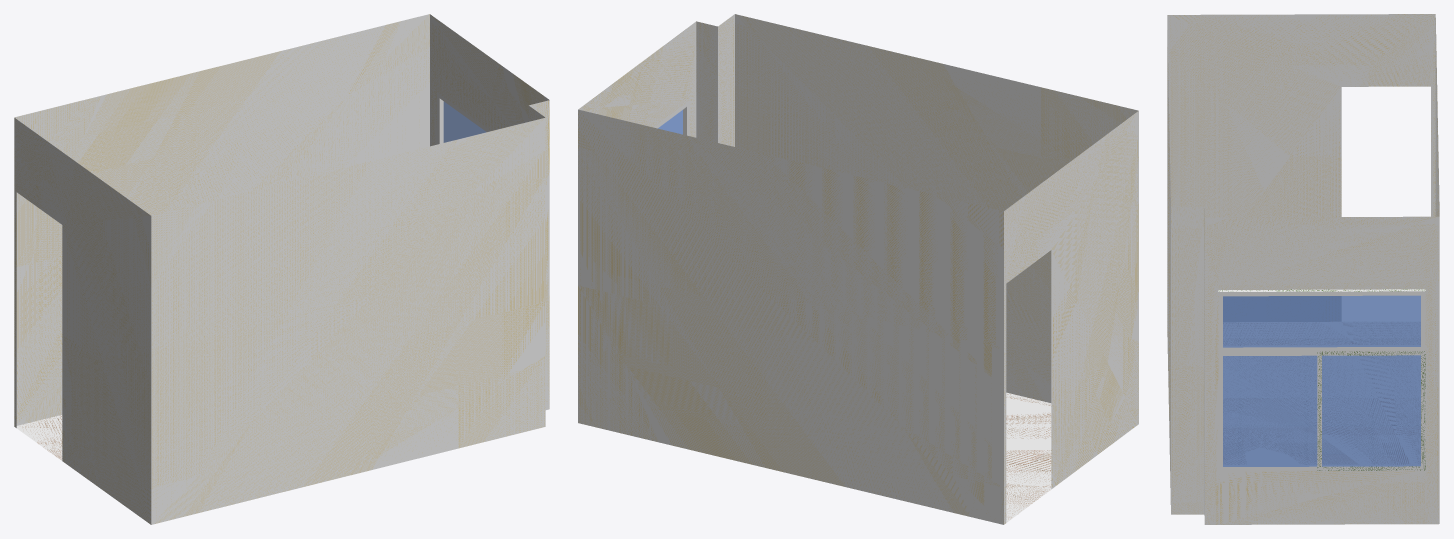
File: DES012.obj
The picture shows the model from 3 angles, left to right: view 1: azimuth 30°, elevation 25°; view 2: azimuth 150°, elevation 25°; view 3: azimuth 270°, elevation 25°; orthographic projection.
Visible parts, largest first — view 1: Mesh7 DES012 Model, Mesh1 ventana1_2_1 DES012 Model; view 2: Mesh7 DES012 Model, Mesh1 ventana1_2_1 DES012 Model; view 3: Mesh7 DES012 Model, Mesh1 ventana1_2_1 DES012 Model.
Boxes of the visible parts, left/top/right/bottom form: Mesh7 DES012 Model: left=14, top=14, right=549, bottom=524; Mesh1 ventana1_2_1 DES012 Model: left=437, top=92, right=490, bottom=144; Mesh7 DES012 Model: left=578, top=14, right=1138, bottom=524; Mesh1 ventana1_2_1 DES012 Model: left=653, top=101, right=689, bottom=135; Mesh7 DES012 Model: left=1167, top=14, right=1439, bottom=524; Mesh1 ventana1_2_1 DES012 Model: left=1218, top=289, right=1425, bottom=471.
Size of the model in its own units: 5.16 by 3.6 by 2.89.
Materials: 7 (1 with a texture image).
